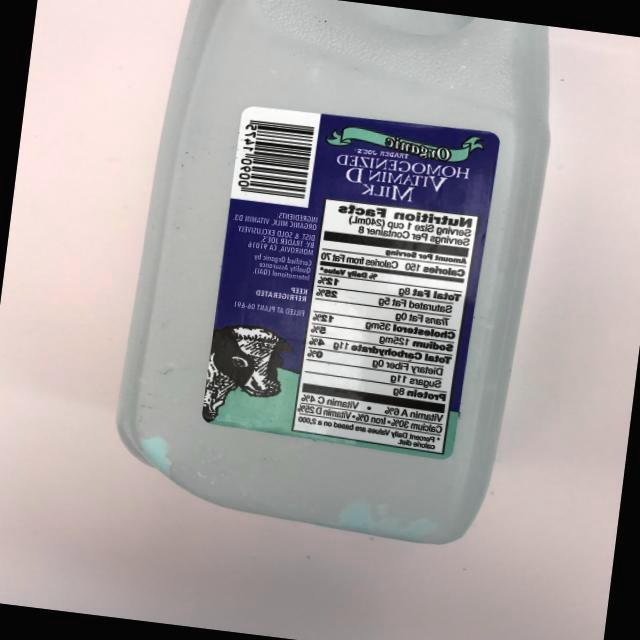plastic: (55, 0, 592, 577)
